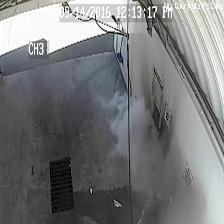smoke: (111, 93, 163, 199)
